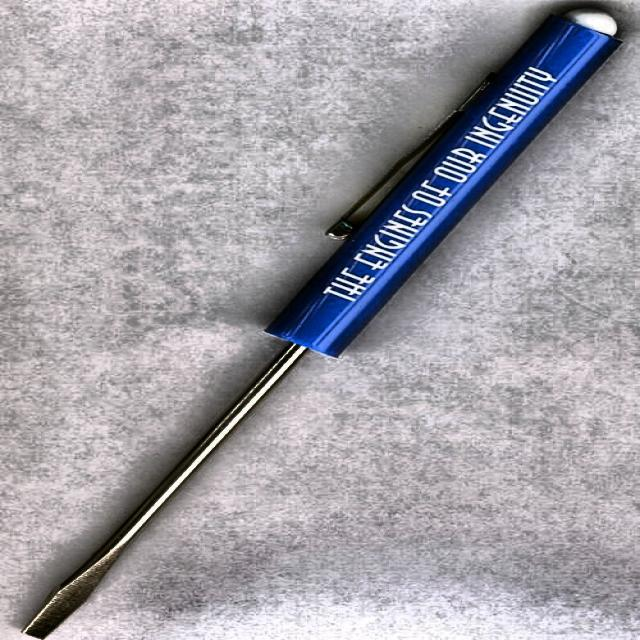screwdriver: (26, 8, 624, 640)
